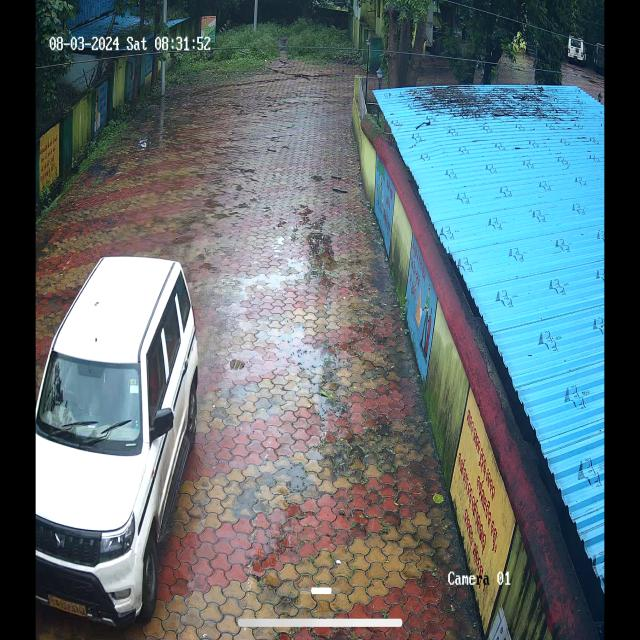light_vehicle: (32, 255, 202, 625)
